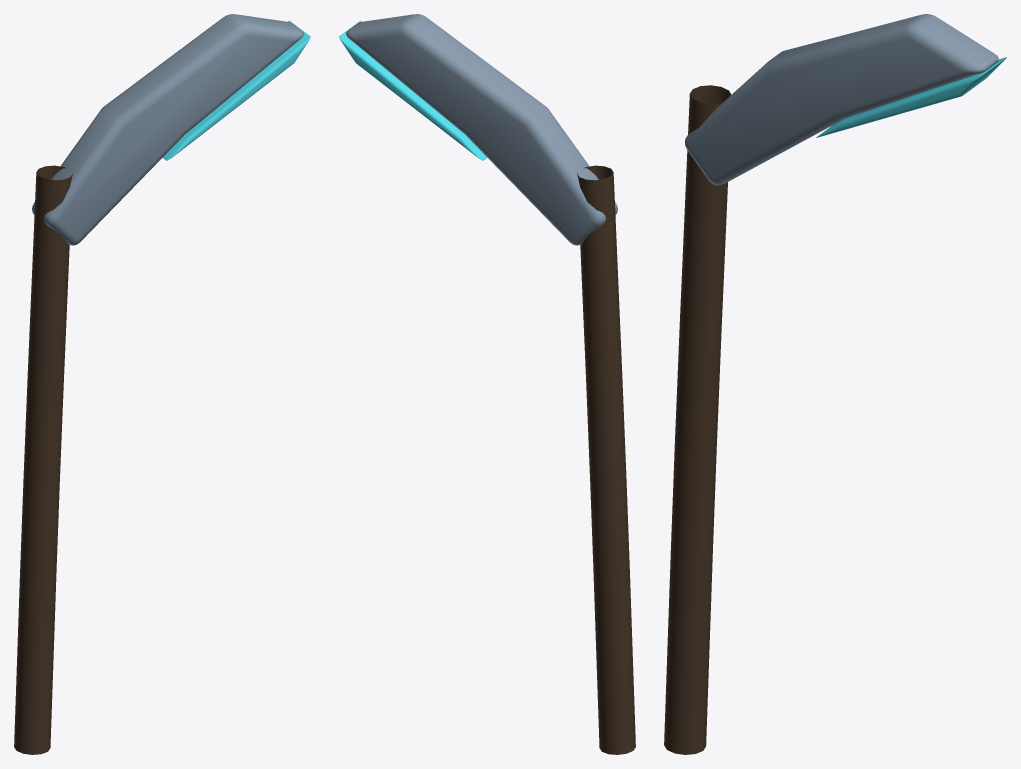
File: scythe_v4.glb
3 views of the same model, side by side, from view 1: azimuth 30°, elevation 25°; view 2: azimuth 150°, elevation 25°; view 3: azimuth 330°, elevation 25° (orthographic). The views are drawn at different scales.
Visible parts, largest first — view 1: SCYTHE_POLE_SECONDARY, SICKLE_SCYTHE_BLADE_PRIMARY, SCYTHE_EDGE_ACCENT; view 2: SCYTHE_POLE_SECONDARY, SICKLE_SCYTHE_BLADE_PRIMARY, SCYTHE_EDGE_ACCENT; view 3: SCYTHE_POLE_SECONDARY, SICKLE_SCYTHE_BLADE_PRIMARY, SCYTHE_EDGE_ACCENT.
Part boxes in pixels (x1=…): SCYTHE_POLE_SECONDARY: x1=14, y1=165, x2=72, y2=754; SICKLE_SCYTHE_BLADE_PRIMARY: x1=32, y1=14, x2=303, y2=245; SCYTHE_EDGE_ACCENT: x1=162, y1=20, x2=310, y2=160; SCYTHE_POLE_SECONDARY: x1=577, y1=165, x2=635, y2=754; SICKLE_SCYTHE_BLADE_PRIMARY: x1=346, y1=14, x2=617, y2=245; SCYTHE_EDGE_ACCENT: x1=339, y1=20, x2=487, y2=160; SCYTHE_POLE_SECONDARY: x1=664, y1=85, x2=731, y2=754; SICKLE_SCYTHE_BLADE_PRIMARY: x1=685, y1=14, x2=998, y2=185; SCYTHE_EDGE_ACCENT: x1=816, y1=57, x2=1006, y2=137.
Size of the model in its own units: 1.53 by 3.5 by 0.23.
